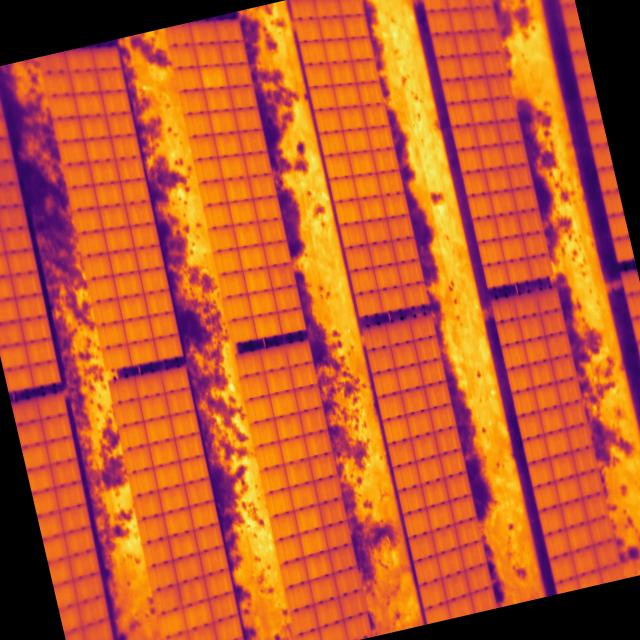Hotspot: (200, 62, 228, 90)
